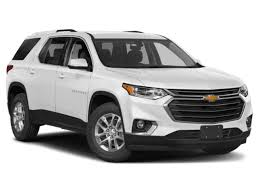car: (5, 29, 252, 159)
